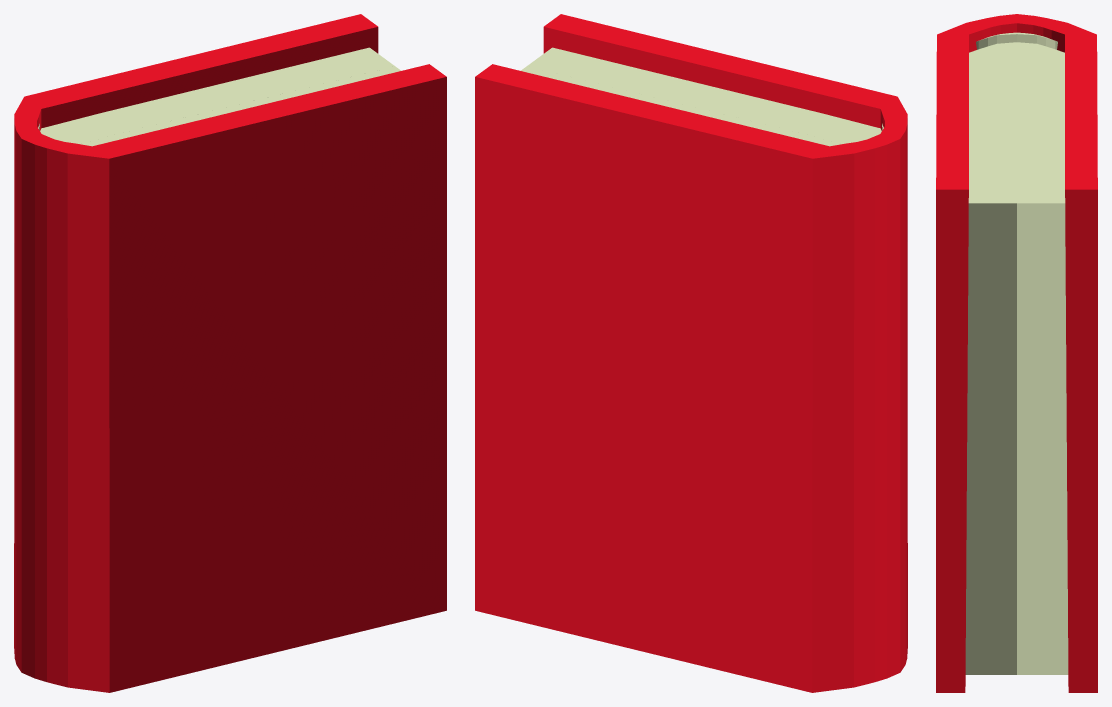
Rendered from BookObject.fbx.
3 renders of one model, left to right at view 1: azimuth 30°, elevation 25°; view 2: azimuth 150°, elevation 25°; view 3: azimuth 270°, elevation 25°, orthographic. The views are drawn at different scales.
Parts seen in each view (by area): view 1: SpellBook; view 2: SpellBook; view 3: SpellBook.
Part boxes in pixels (x1,y1,x2,y2): SpellBook: (14,14,446,692); SpellBook: (475,14,907,692); SpellBook: (936,14,1097,692).
Bounding box in the file's own units: 0.2894 × 0.3863 × 0.1126.
